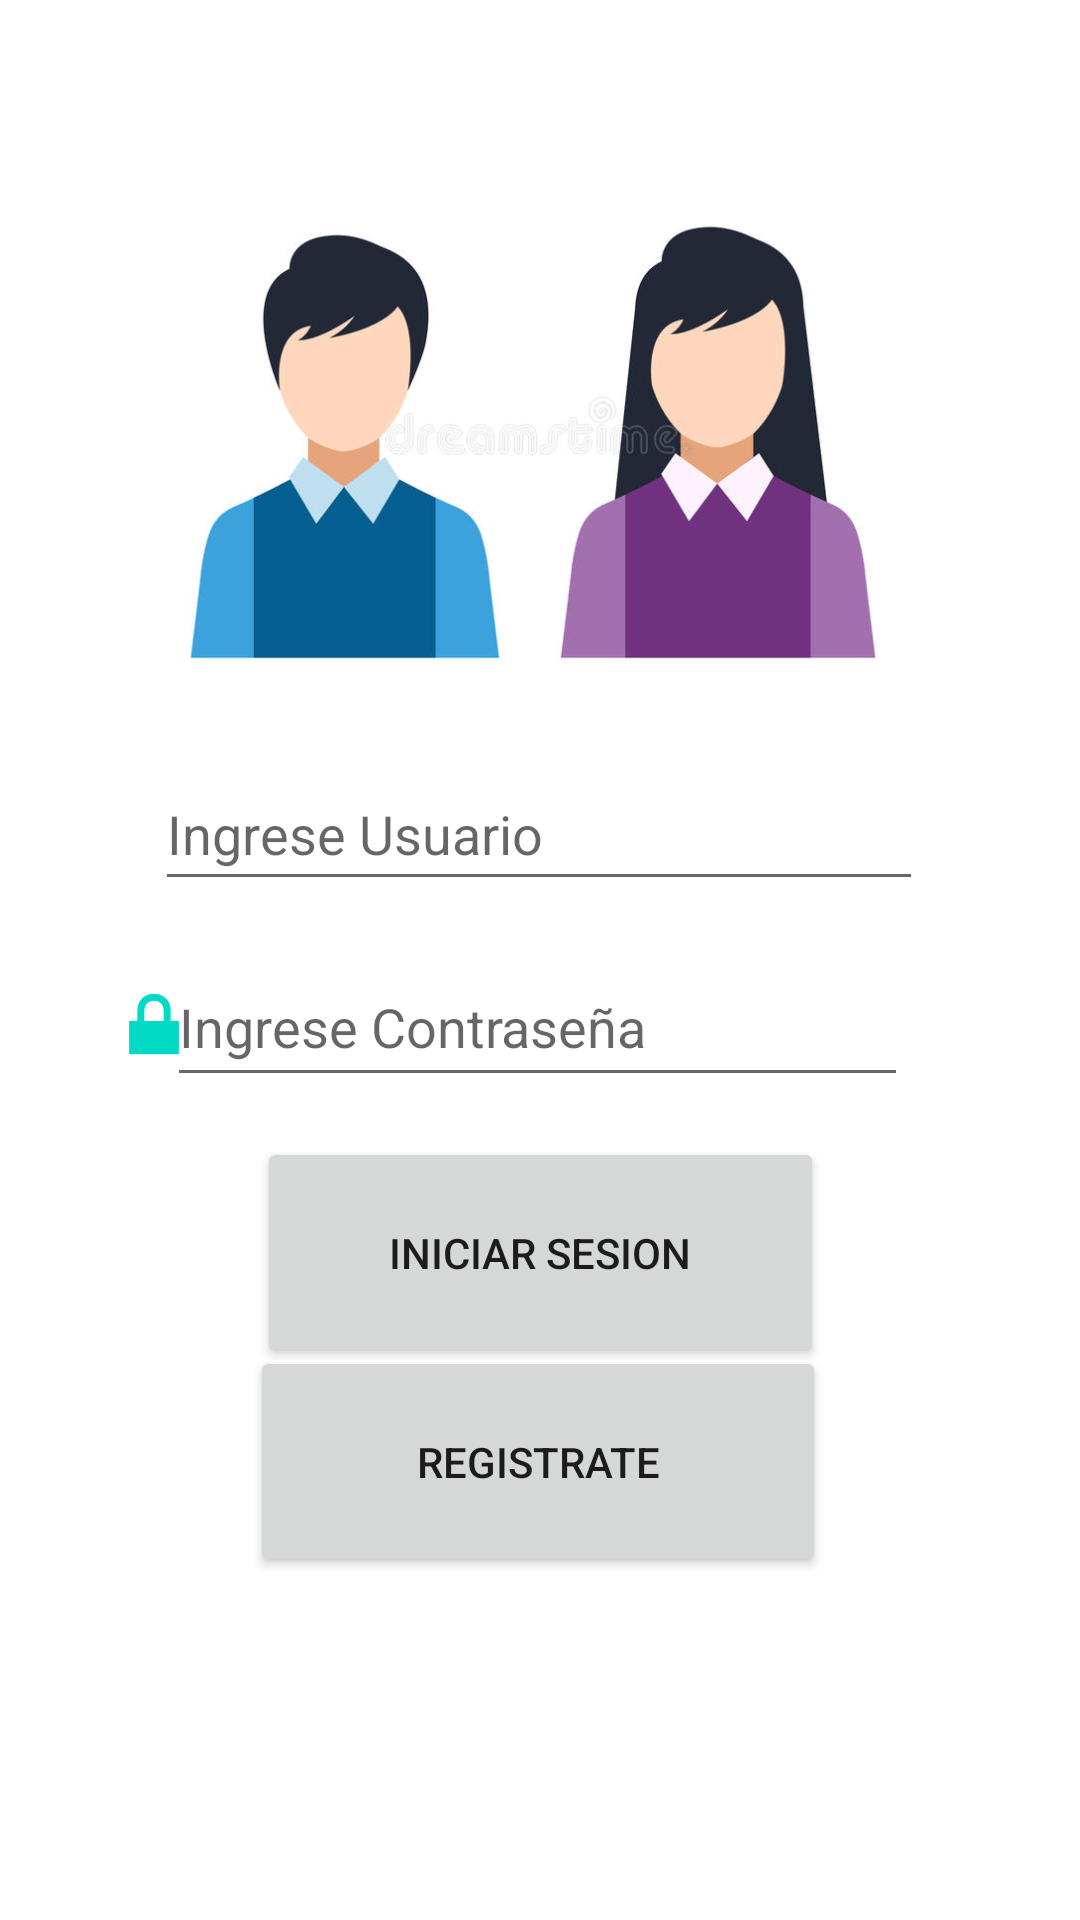

Locate icon controls on the screen. Image size 1080w x 1920h, boxes as [x1,y1,x2,y2].
lock: [129,993,189,1055]
